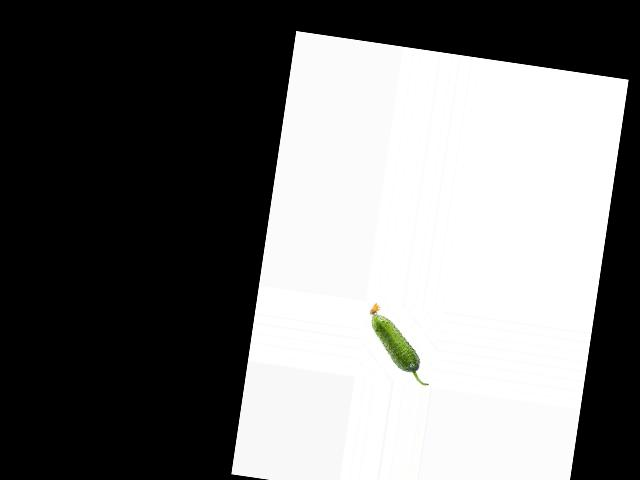cucumber: (360, 301, 439, 385)
